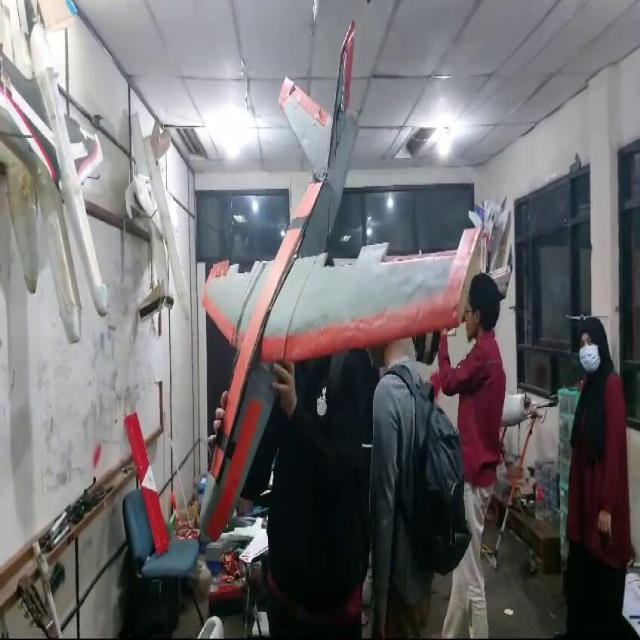plane: (197, 18, 513, 544)
